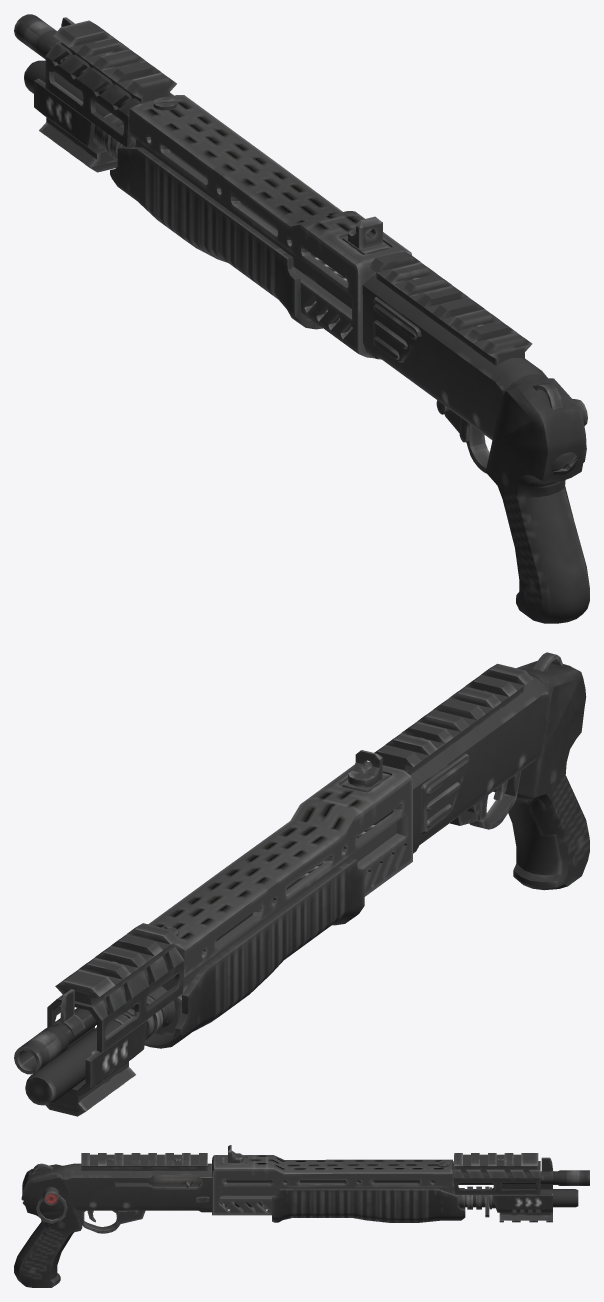
The model's file is tactical_shotgun.glb.
The picture shows the model from 3 angles, top to bottom: view 1: azimuth 30°, elevation 25°; view 2: azimuth 150°, elevation 25°; view 3: azimuth 270°, elevation 25°; orthographic projection. The views are drawn at different scales.
Visible parts, largest first — view 1: Object_2; view 2: Object_2; view 3: Object_2.
Boxes of the visible parts, left/top/right/bottom form: Object_2: left=14, top=14, right=589, bottom=623; Object_2: left=14, top=652, right=589, bottom=1116; Object_2: left=14, top=1145, right=589, bottom=1287.
Size of the model in its own units: 0.0717 by 0.2302 by 0.89.
Materials: 1 (1 with a texture image).
